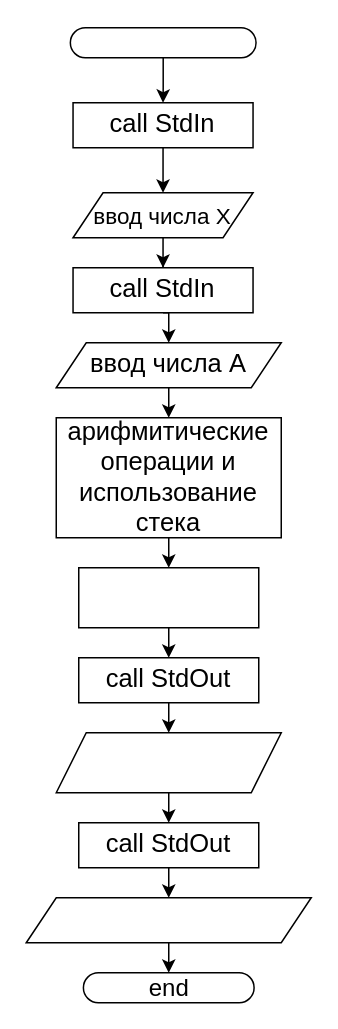
Image size: 338x1029. Some labels were removed from this diagram. Each missing label, with the centre of its shape:
"call FpuFLtoA" belongs at (x=168, y=597).
"start" belongs at (x=162, y=42).
"вывод ответа" belongs at (x=168, y=762).
"вывод пропуска" belongs at (x=168, y=919).
